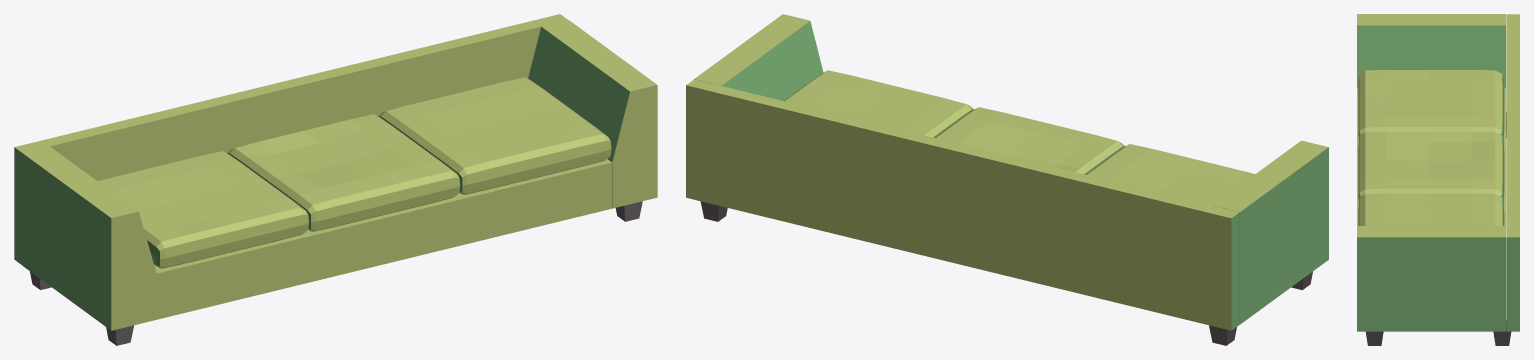
The model's file is Sofa V2 Tripple.fbx.
The picture shows the model from 3 angles, left to right: view 1: azimuth 30°, elevation 25°; view 2: azimuth 150°, elevation 25°; view 3: azimuth 270°, elevation 25°; orthographic projection. The views are drawn at different scales.
Parts seen in each view (by area): view 1: Sofa V2 Tripple; view 2: Sofa V2 Tripple; view 3: Sofa V2 Tripple.
Part boxes in pixels (left/top/right/bottom): Sofa V2 Tripple: left=14, top=14, right=657, bottom=345; Sofa V2 Tripple: left=686, top=14, right=1328, bottom=345; Sofa V2 Tripple: left=1357, top=14, right=1519, bottom=345.
Size of the model in its own units: 615 by 146 by 189.
